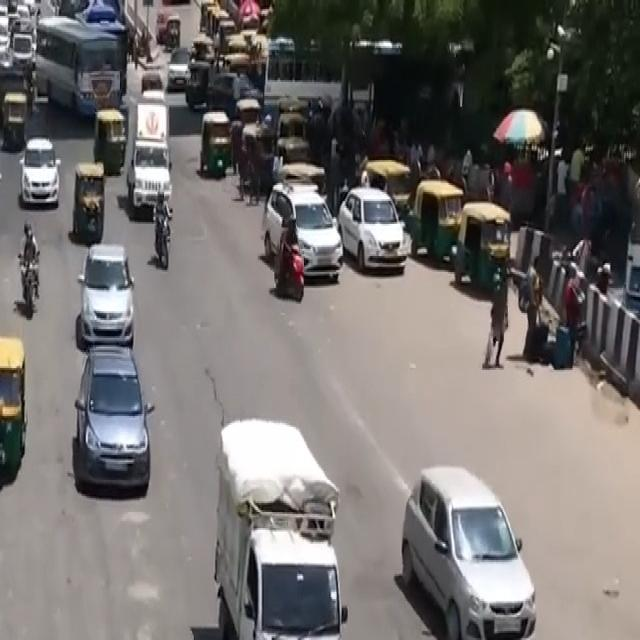car: (383, 451, 560, 640), (61, 332, 167, 507), (68, 231, 144, 357), (330, 174, 417, 281), (15, 130, 67, 215), (0, 146, 5, 233)
motorbike: (10, 222, 49, 322)
rickshaw: (0, 326, 39, 500)
van: (195, 400, 370, 640)
